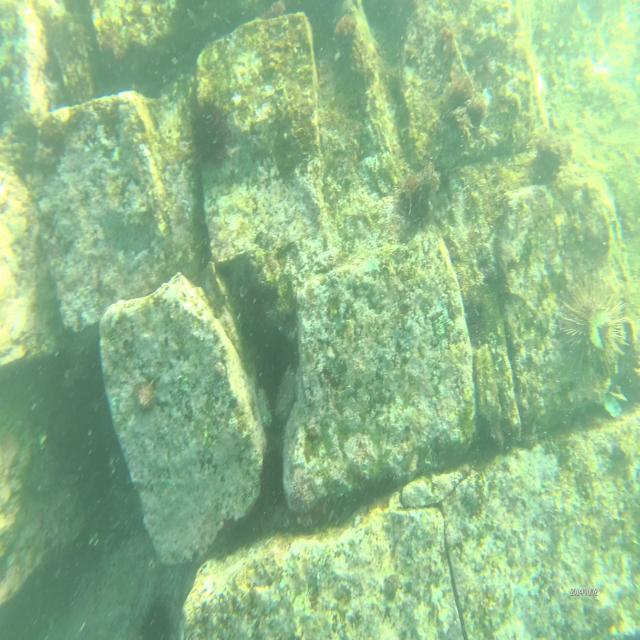echinus: (558, 270, 631, 411), (187, 93, 230, 180)
scallop: (333, 10, 361, 46), (132, 380, 160, 412)
